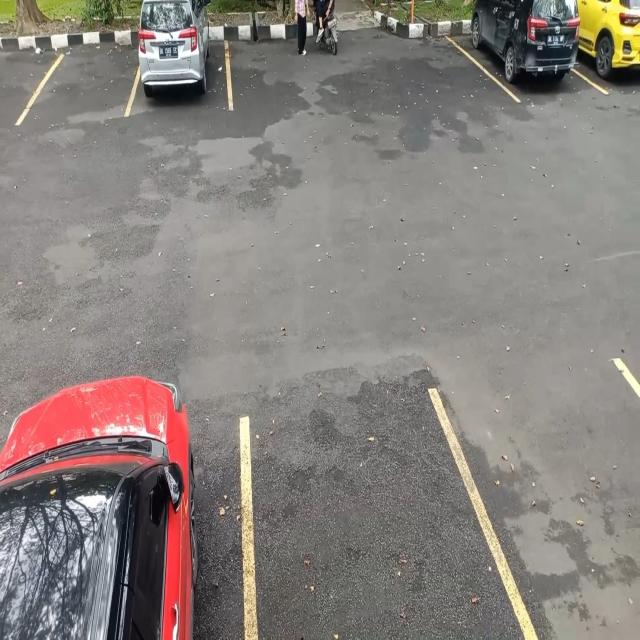empty: (240, 394, 497, 640), (34, 15, 134, 119)
occupied: (469, 0, 583, 99), (135, 0, 231, 112)
